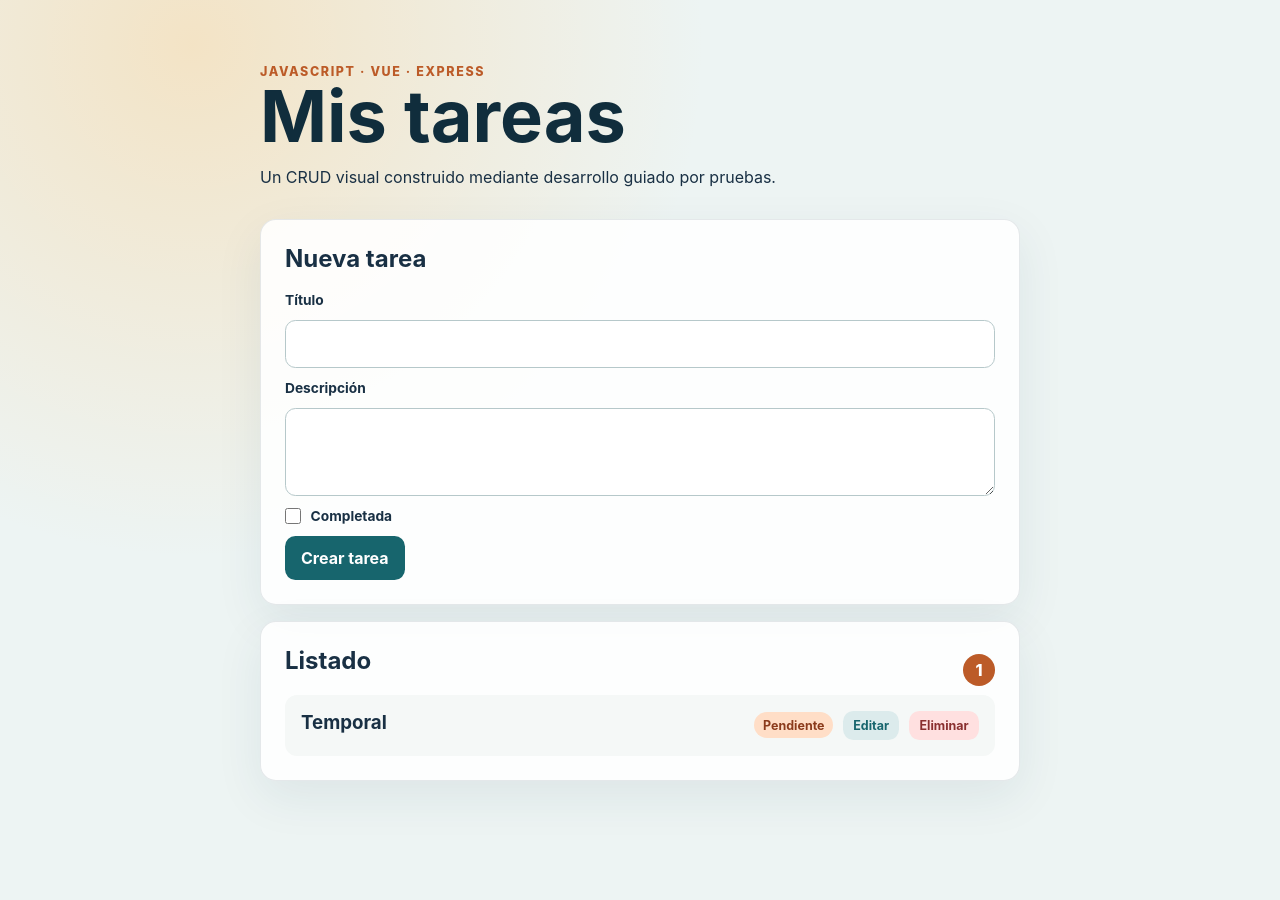
Test: Tasks application › deletes a task and returns to the empty state
Click the button with test id "delete-1": (944, 725) x1=909 y1=711 x2=979 y2=740
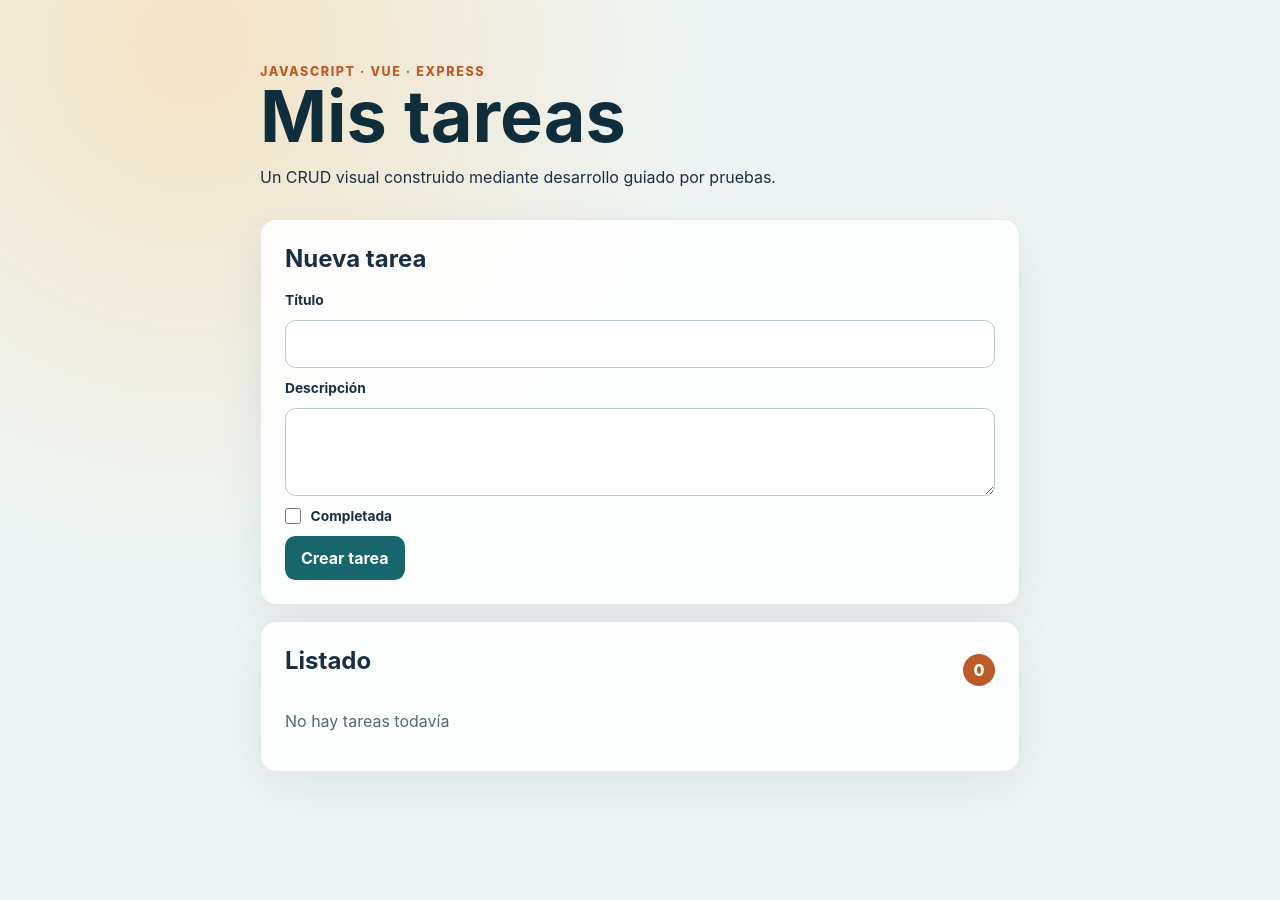
Expected: the text "Temporal" is gone
Expected: the text "No hay tareas todavía" is shown, x1=285 y1=711 x2=449 y2=731
